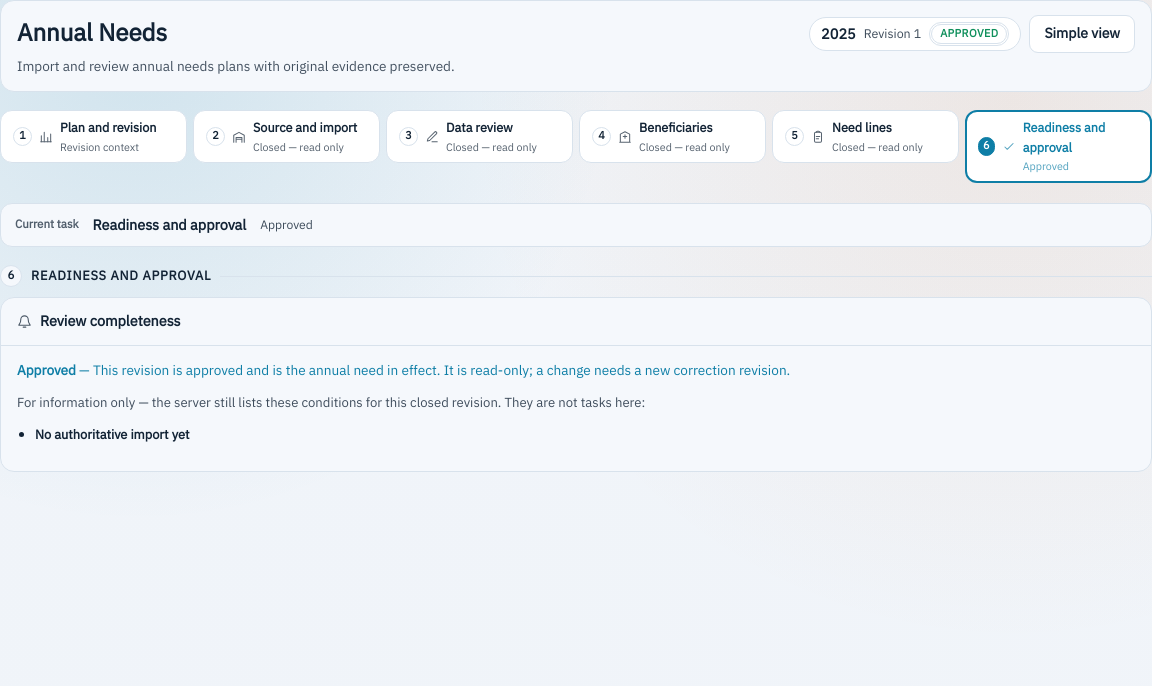
C2 — Advanced Mode correction › names year and revision, asks for the reason naming them, and sends the selected revision trimmed
Click the button "1 Plan and revision Revision context" at (94, 137), box [0,110,187,164]
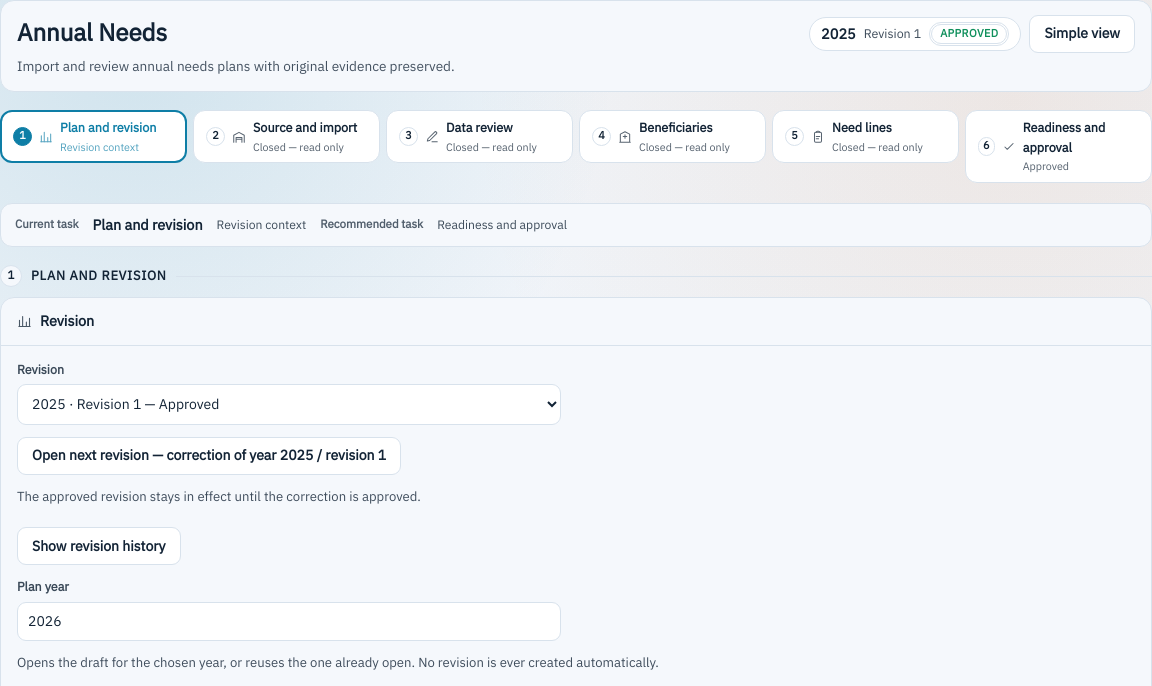
Check: the button with test id "cn2b-open-next-revision" reads "Open next revision — correction of year 2025 / revision 1"
Check: the text "The approved revision stays in effect until the correction is approved." is shown, box [17,487,421,506]
Click the button with test id "cn2b-open-next-revision" at (209, 456), box [17,437,401,475]
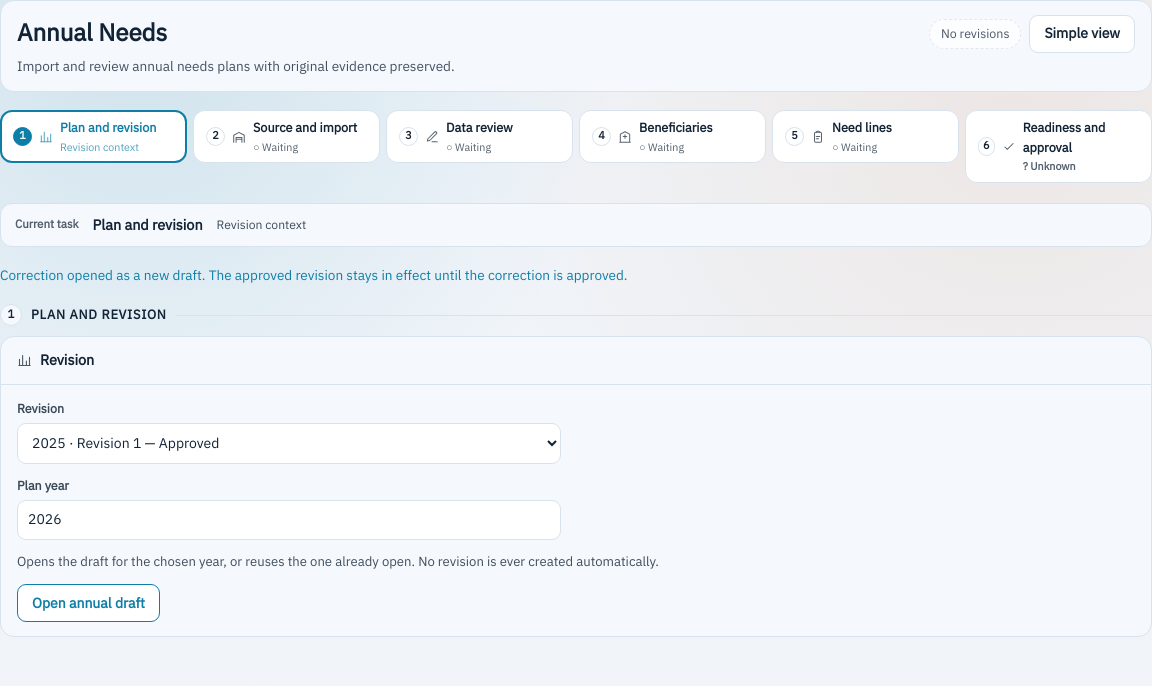
Check: the text "Correction opened as a new draft. The approved revision stays in effect until the correction is approved." is shown, box [0,265,628,286]
